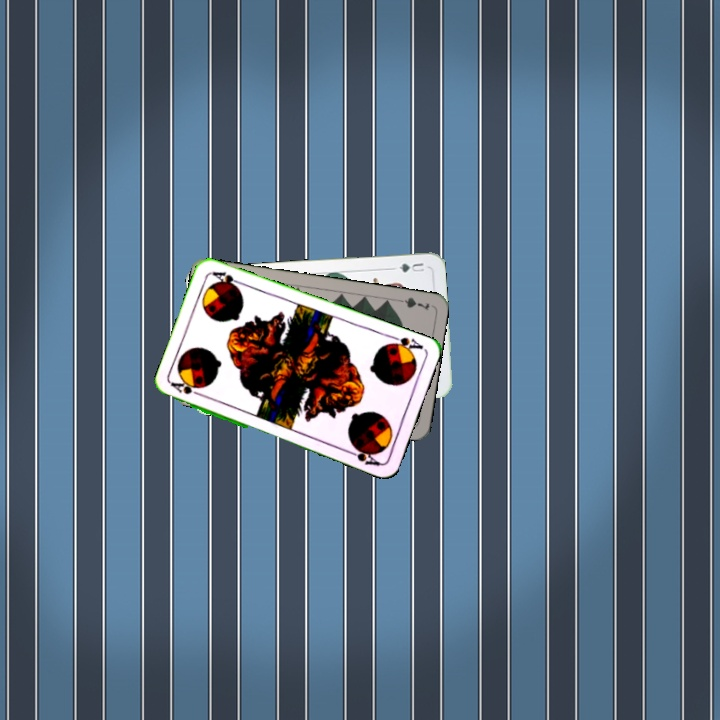G7: (392, 293, 432, 313)
GU: (389, 259, 427, 275)
SA: (384, 331, 426, 355), (168, 378, 207, 400)
